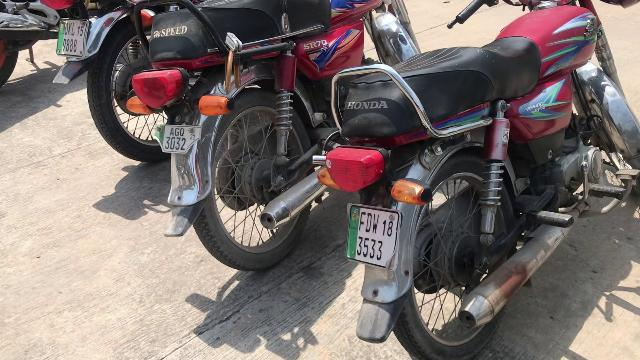plate: (340, 202, 400, 272)
